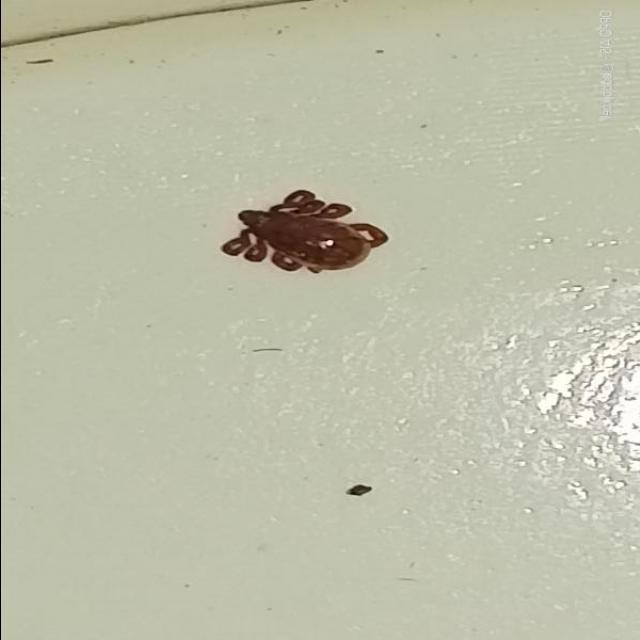Rhipicephalus Sanguineus-M: (221, 188, 390, 276)
